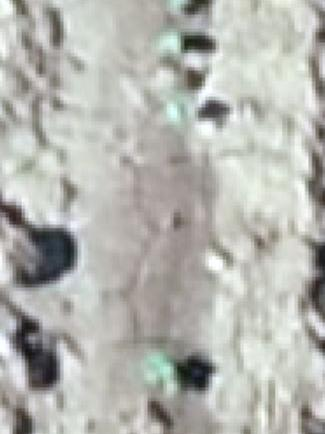cotton: (151, 354, 178, 389), (167, 97, 190, 124), (162, 32, 181, 54), (169, 1, 189, 13)
